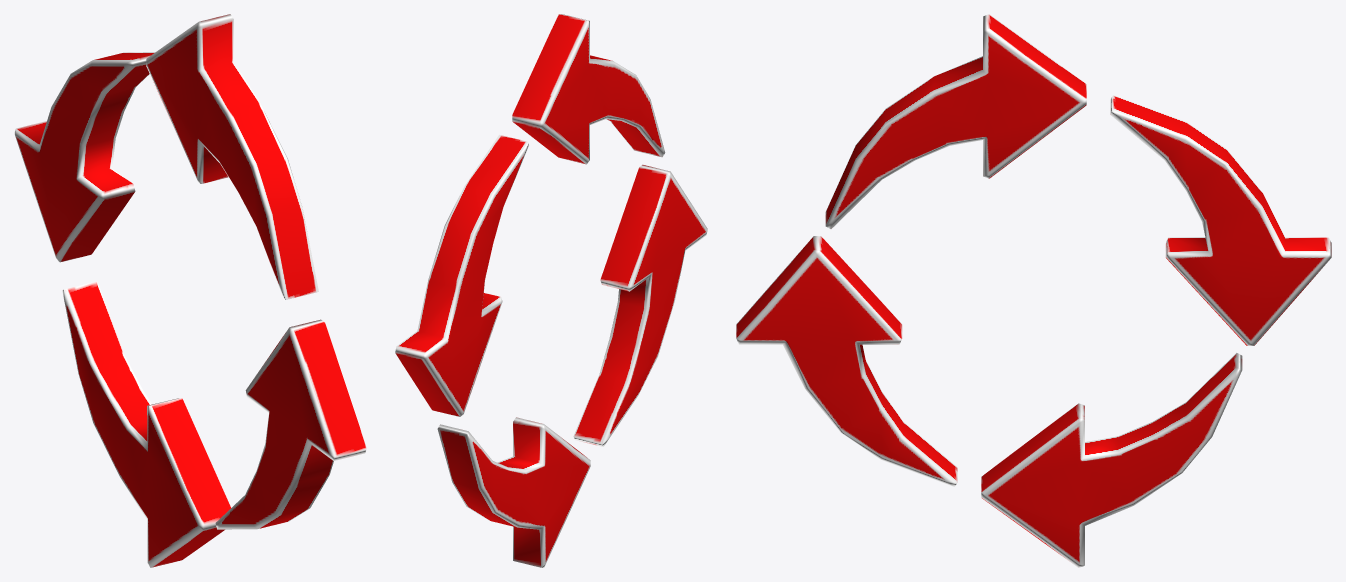
File: SM_Mark_01.fbx
3 renders of one model, left to right at view 1: azimuth 30°, elevation 25°; view 2: azimuth 150°, elevation 25°; view 3: azimuth 270°, elevation 25°, orthographic. The views are drawn at different scales.
Parts seen in each view (by area): view 1: SM_Marks_01; view 2: SM_Marks_01; view 3: SM_Marks_01.
Boxes of the visible parts, bbox=[...] form: SM_Marks_01: bbox=[14, 14, 366, 567]; SM_Marks_01: bbox=[395, 14, 707, 567]; SM_Marks_01: bbox=[736, 14, 1331, 567].
Bounding box in the file's own units: 3.12 × 48.64 × 48.64.
